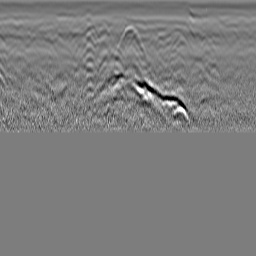cavity: (117, 26, 140, 49)
